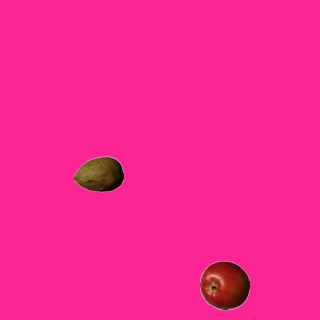Apple Braeburn: (199, 260, 249, 310)
Papaya: (73, 149, 123, 199)
